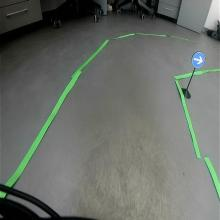right: (191, 51, 206, 69)
